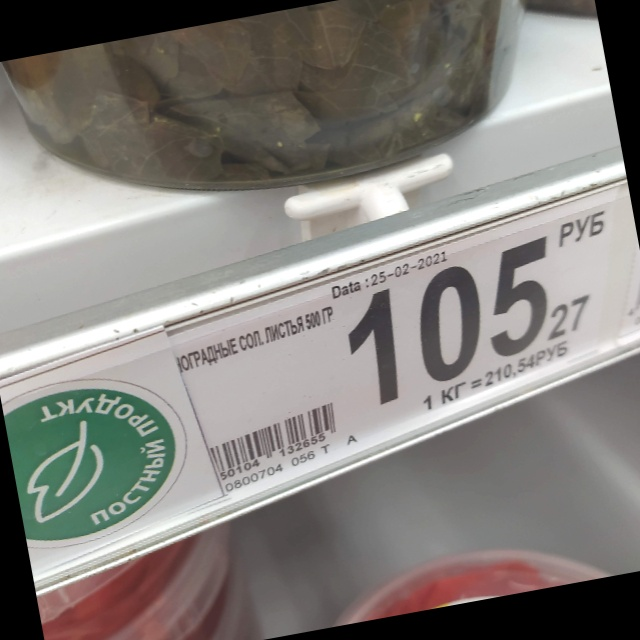barcode: (192, 399, 340, 486)
price_tag: (173, 192, 624, 516)
